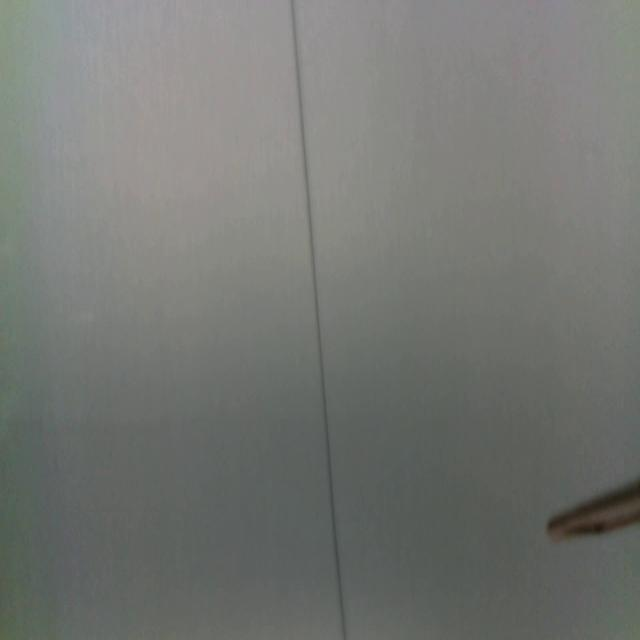crease: (293, 0, 351, 640)
